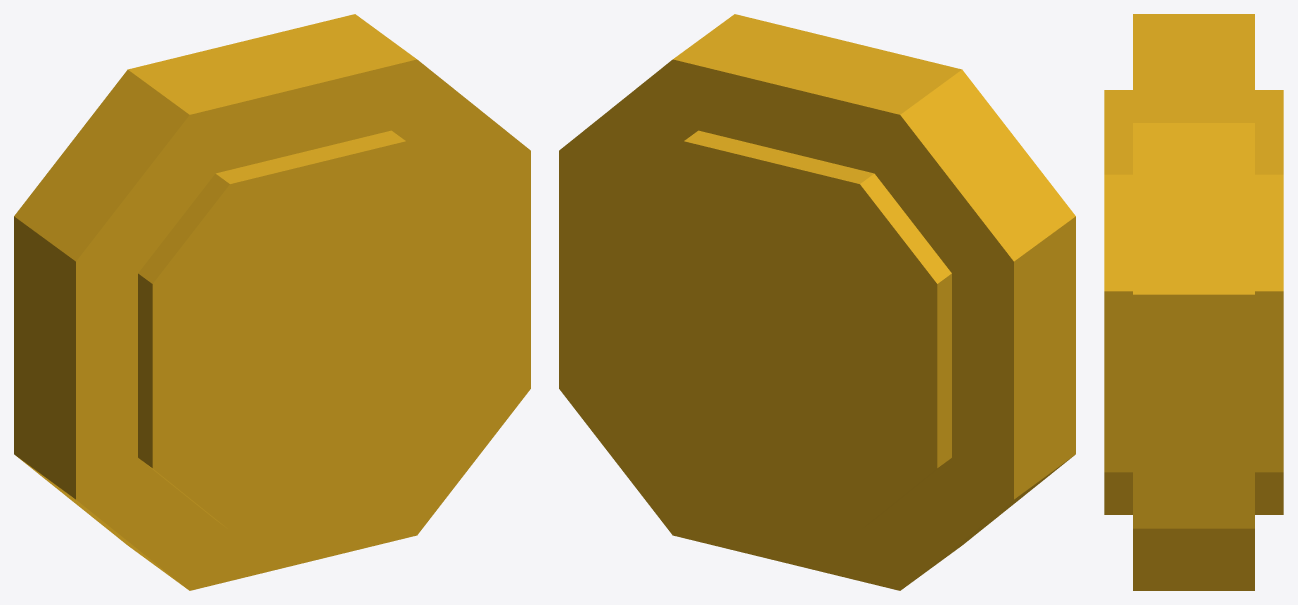
File: Coin.fbx
The picture shows the model from 3 angles, left to right: view 1: azimuth 30°, elevation 25°; view 2: azimuth 150°, elevation 25°; view 3: azimuth 270°, elevation 25°; orthographic projection.
Parts seen in each view (by area): view 1: Coin; view 2: Coin; view 3: Coin.
Part boxes in pixels (left/top/right/bottom): Coin: left=14, top=14, right=530, bottom=590; Coin: left=559, top=14, right=1075, bottom=590; Coin: left=1104, top=14, right=1283, bottom=590.
Bounding box in the file's own units: 41.89 × 41.89 × 14.55.
